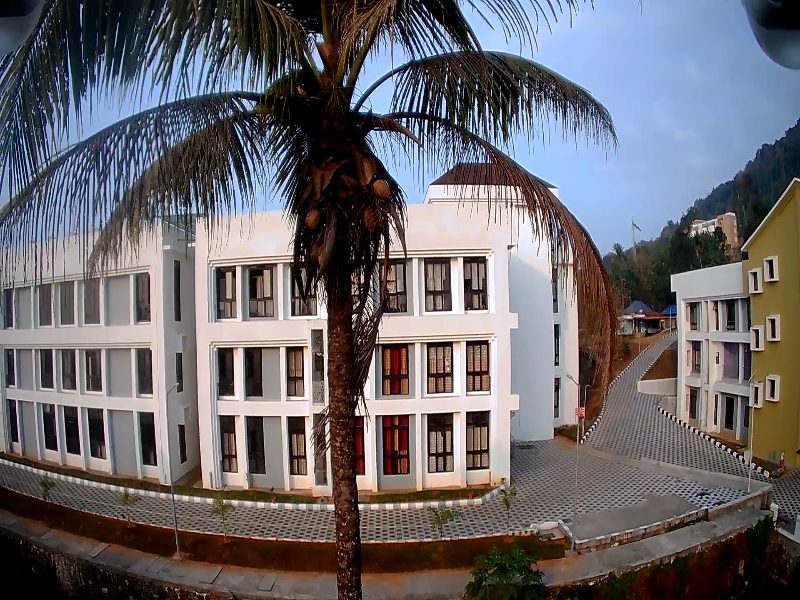coconut: (373, 174, 392, 200), (364, 202, 381, 227), (317, 241, 328, 267), (301, 209, 317, 225)
